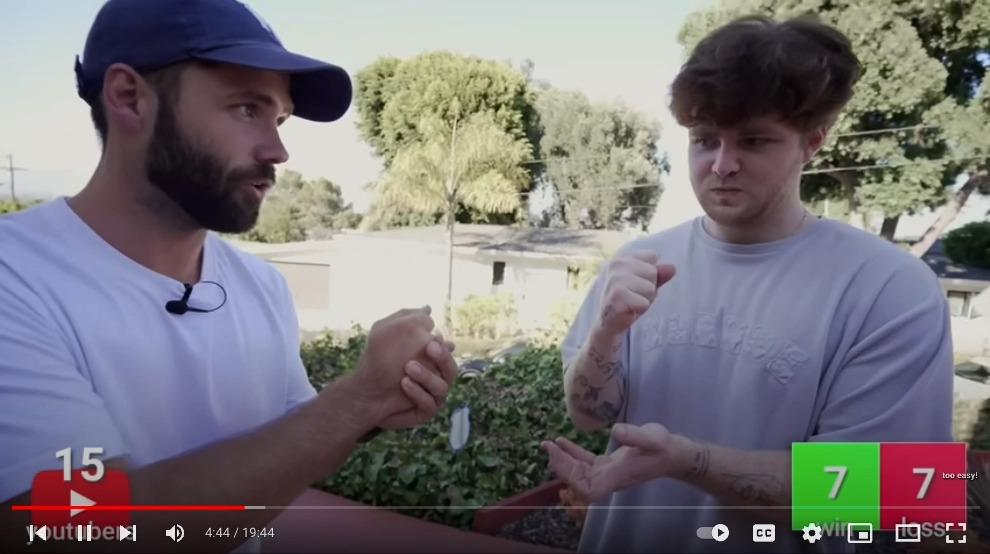Rock: (360, 302, 440, 418), (604, 251, 676, 326)
